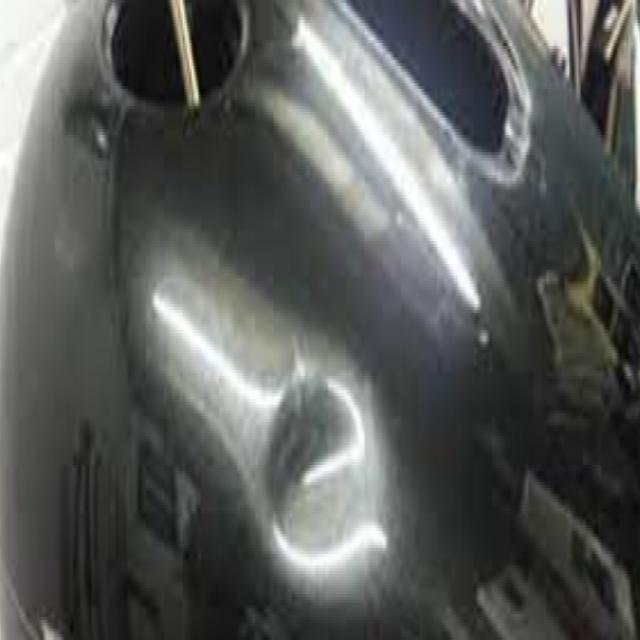dents: (258, 363, 398, 577)
